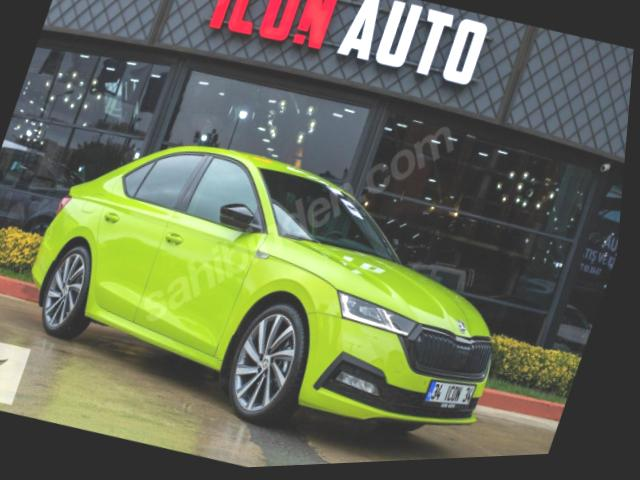plaka: (425, 381, 476, 407)
